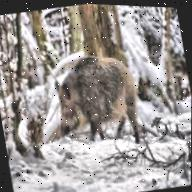boar: (25, 13, 181, 160)
